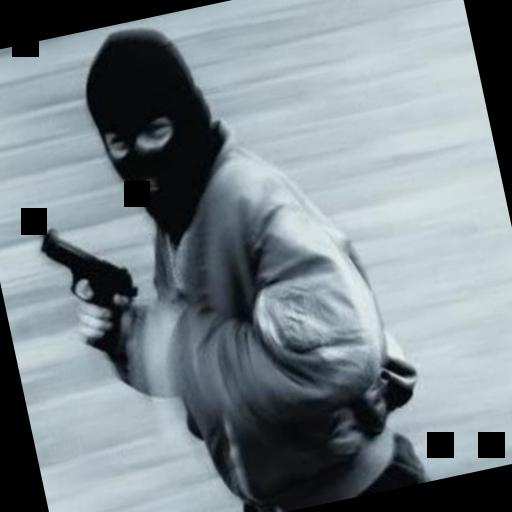Handgun: (34, 208, 146, 368)
